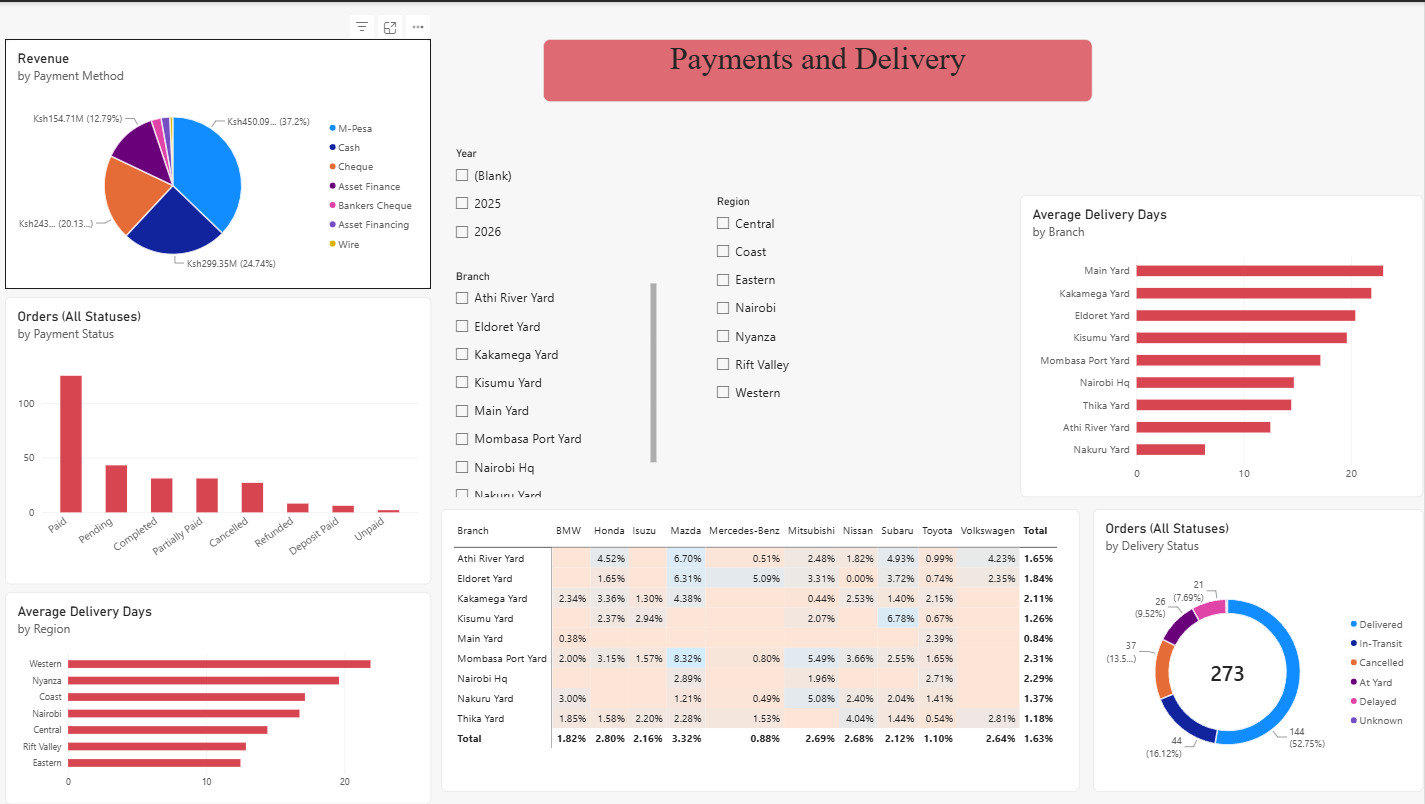

Layout of this report page (visuals, bound fields, positions):
{"tool":"powerbi","page":{"name":"Page 5","canvas":[1920,1080],"ordinal":4},"visuals":[{"type":"pieChart","fields":{"Category":["Sales_ftTable.Payment Method"],"Y":["Jcars_Measures.Revenue"]},"box":[9.2,49.7,574.2,336.8],"z":0},{"type":"clusteredColumnChart","fields":{"Category":["Sales_ftTable.Payment Status"],"Y":["Jcars_Measures.Orders (All Statuses)"]},"box":[9,397,574,387],"z":1},{"type":"donutChart","fields":{"Category":["Deliveries_dmTable.Delivery Status"],"Y":["Jcars_Measures.Orders (All Statuses)"]},"box":[1474.2,682.8,445.4,381],"z":2},{"type":"clusteredBarChart","fields":{"Category":["Region_dmTable.Region"],"Y":["Deliveries_dmTable.Average Delivery Days"]},"box":[9.2,795.1,574,286],"z":3},{"type":"clusteredBarChart","fields":{"Category":["Branch_dmTable.Branch"],"Y":["Deliveries_dmTable.Average Delivery Days"]},"box":[1376.7,259.5,542.9,406.8],"z":4},{"type":"pivotTable","fields":{"Columns":["Vehicles_dmTable.Car Make"],"Rows":["Branch_dmTable.Branch"],"Values":["Jcars_Measures.Logistics Cost % of Revenue"]},"box":[596.3,682.8,859.5,381],"z":5},{"type":"textbox","box":[734.4,49.7,739.9,84.7],"z":6},{"type":"slicer","fields":{"Values":["Date_dmTable.Year"]},"box":[609.2,195.1,208,165.6],"z":7},{"type":"slicer","fields":{"Values":["Branch_dmTable.Branch"]},"box":[609.2,360.7,277.9,305.5],"z":8},{"type":"slicer","fields":{"Values":["Region_dmTable.Region"]},"box":[960.7,259.5,254,314.7],"z":9}]}

Visuals, with their boxes in screenshot pixels (x1, y1, x2, y2), scaled from the page's 1920x1080 canvas onto the 1425x804 screenshot:
pieChart - Sales_ftTable.Payment Method x Jcars_Measures.Revenue: (7, 37, 433, 288)
clusteredColumnChart - Sales_ftTable.Payment Status x Jcars_Measures.Orders (All Statuses): (7, 296, 433, 584)
donutChart - Deliveries_dmTable.Delivery Status x Jcars_Measures.Orders (All Statuses): (1094, 508, 1424, 792)
clusteredBarChart - Region_dmTable.Region x Deliveries_dmTable.Average Delivery Days: (7, 592, 433, 803)
clusteredBarChart - Branch_dmTable.Branch x Deliveries_dmTable.Average Delivery Days: (1022, 193, 1424, 496)
pivotTable - Vehicles_dmTable.Car Make x Branch_dmTable.Branch: (443, 508, 1080, 792)
textbox: (545, 37, 1094, 100)
slicer - Date_dmTable.Year: (452, 145, 607, 269)
slicer - Branch_dmTable.Branch: (452, 269, 658, 496)
slicer - Region_dmTable.Region: (713, 193, 902, 427)
